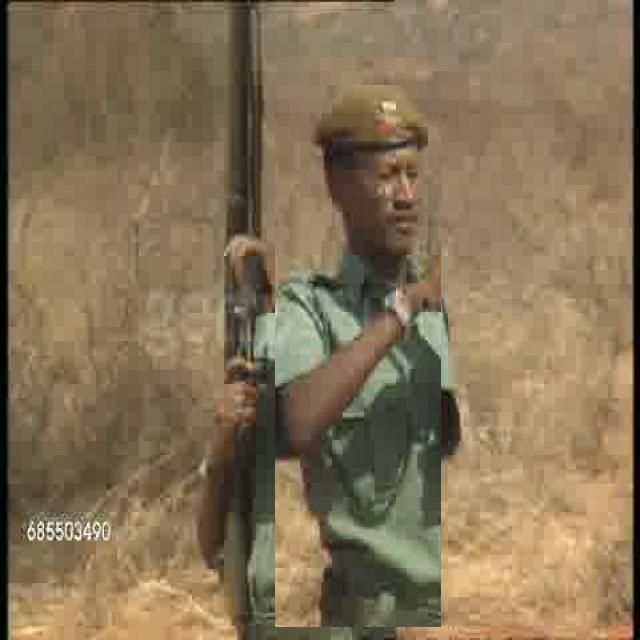poacher: (275, 85, 441, 628)
weapon: (226, 2, 252, 620)
